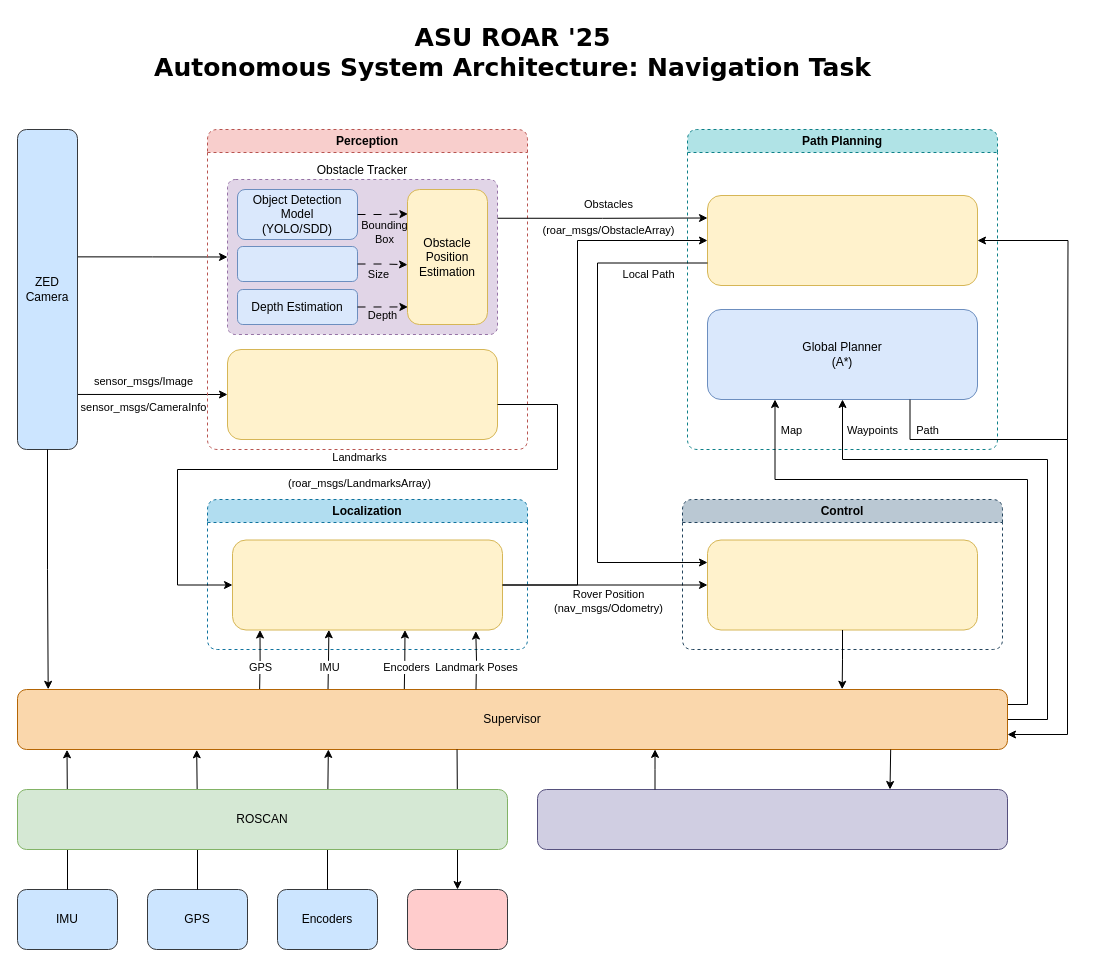
Image size: 1094x967. Some labels were removed from this diagram. Here are the shapes that lost their labels. From the top down, the centre of each, then its label:
point (842, 240): Local Planner (APF)
point (297, 264): Size Estimation
point (362, 394): AR Tag Tracker
point (367, 584): Unscented Kalman Filter
point (842, 584): Pure Pursuit (Simple / Adaptive)
point (772, 819): GUI
point (457, 919): Motors
